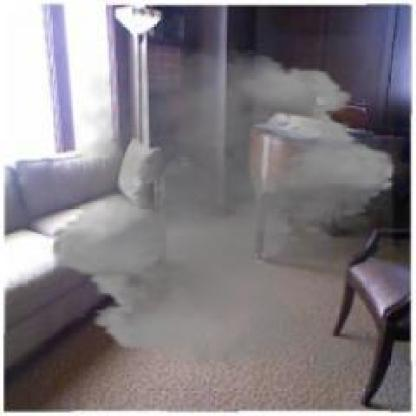Smoke: (39, 35, 406, 391)
